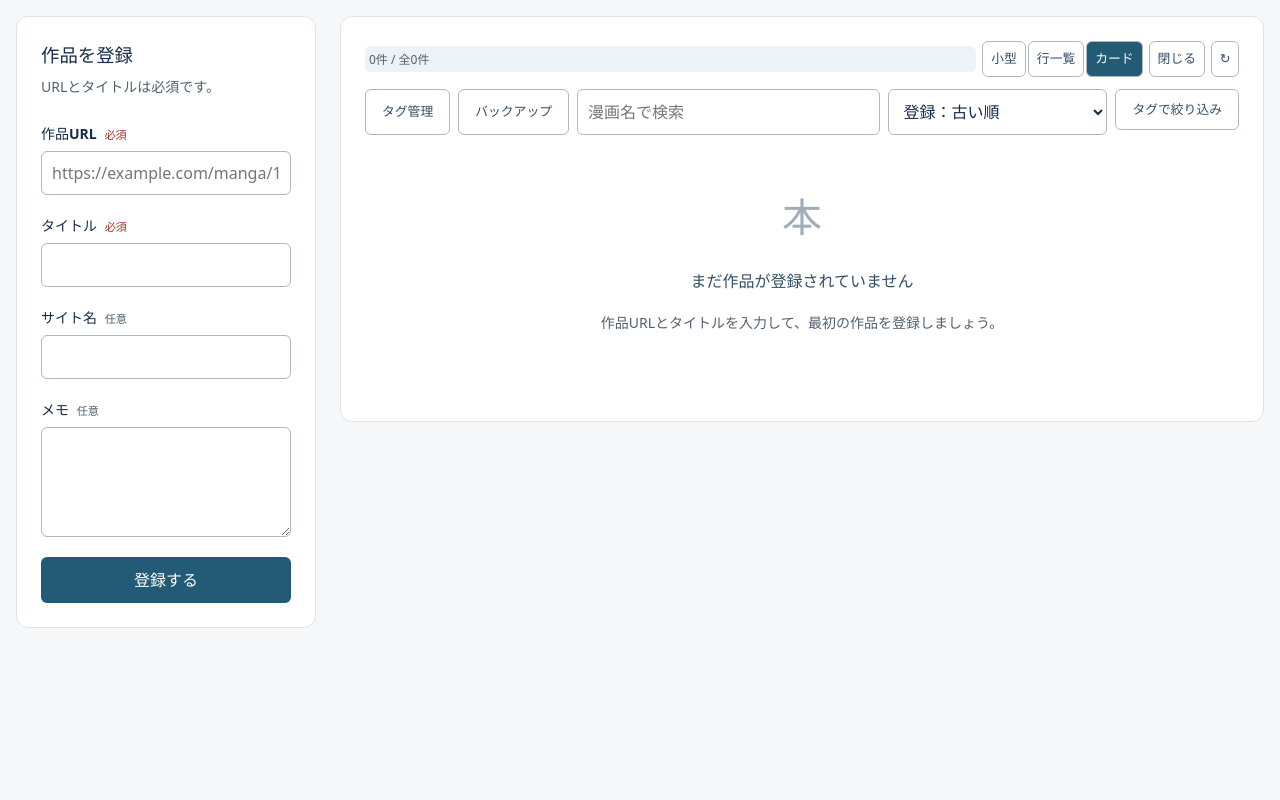
it: 登録確定後の取得失敗で空表示を最新扱いせず、成功とフォームクリアを残す
The width and height of the screenshot is (1280, 800).
Expected: the heading "まだ作品が登録されていません" is shown, x1=690 y1=270 x2=914 y2=292
In the field labelled "作品URL 必須": (166, 173) x1=41 y1=151 x2=291 y2=195, type "https://example.com/1"
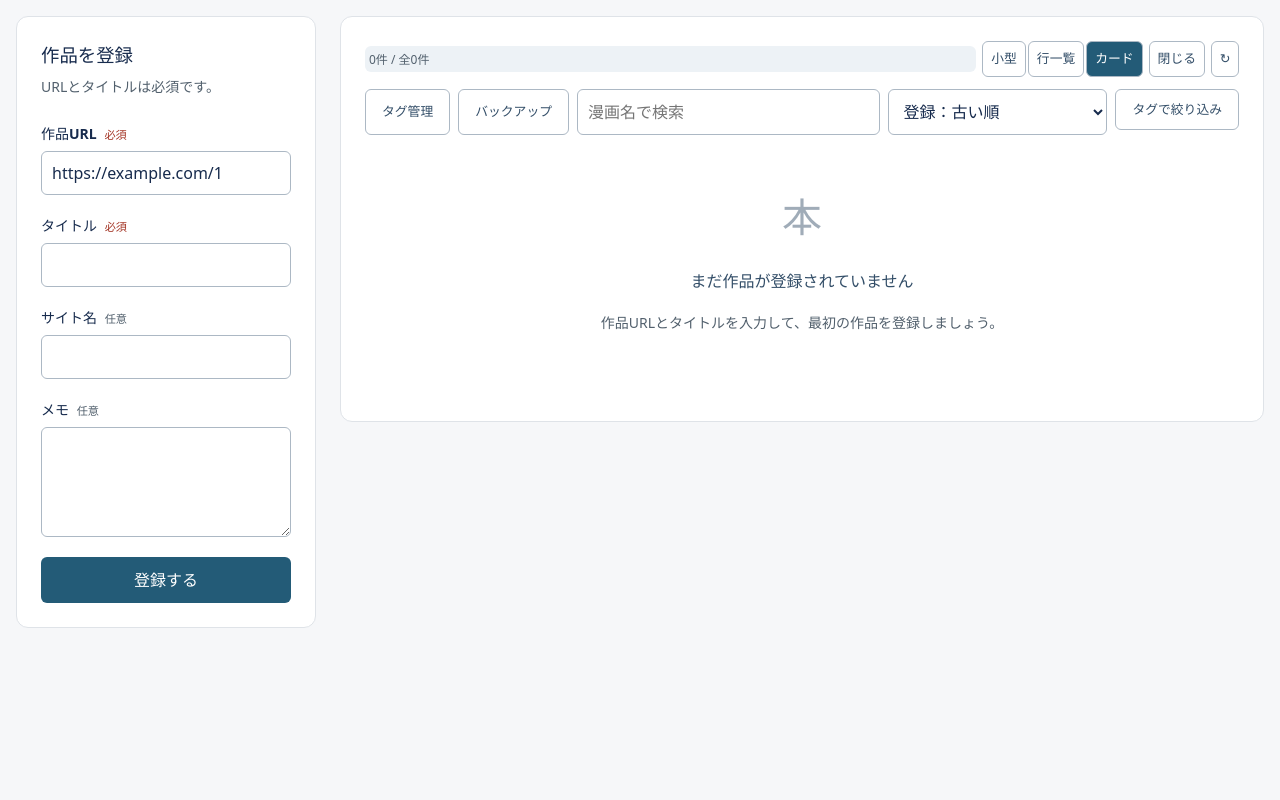
In the field labelled "タイトル 必須": (166, 265) x1=41 y1=243 x2=291 y2=287, type "旧名"
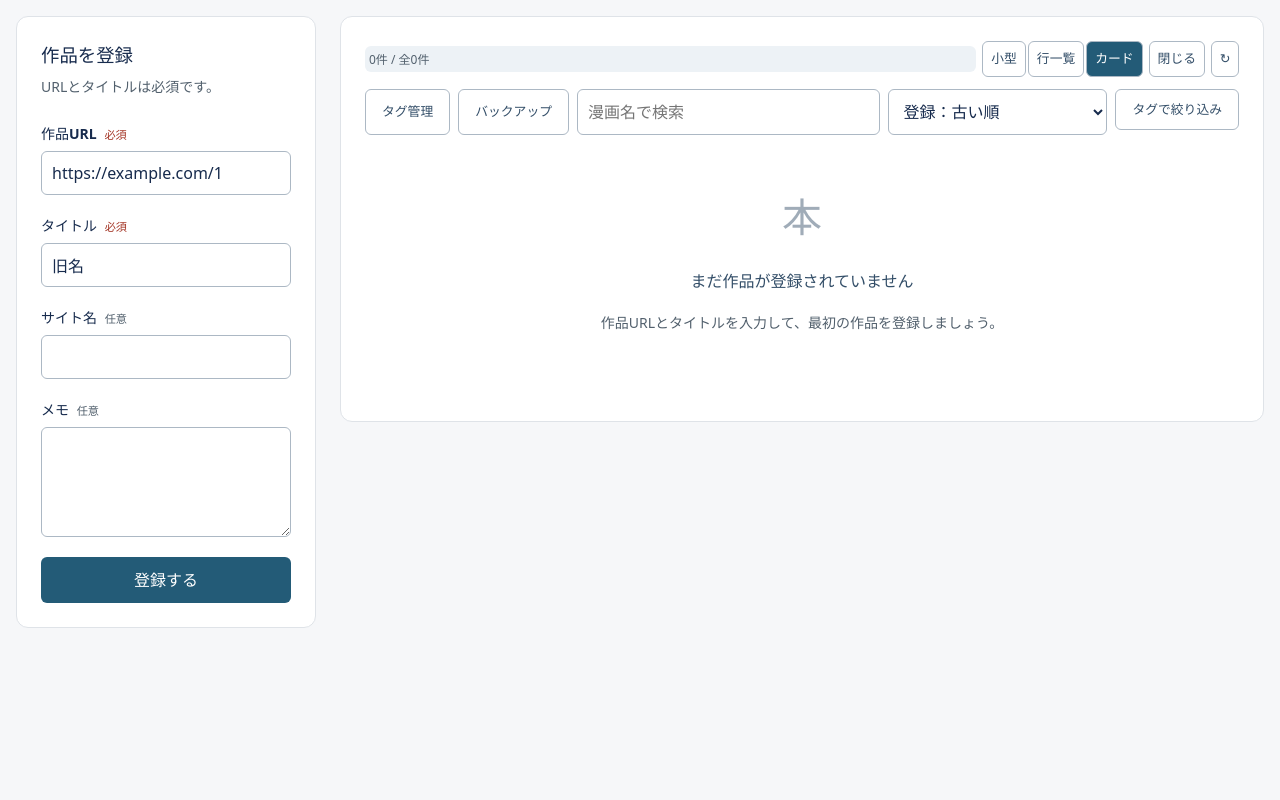
Click the button "登録する": (166, 580) x1=41 y1=557 x2=291 y2=603
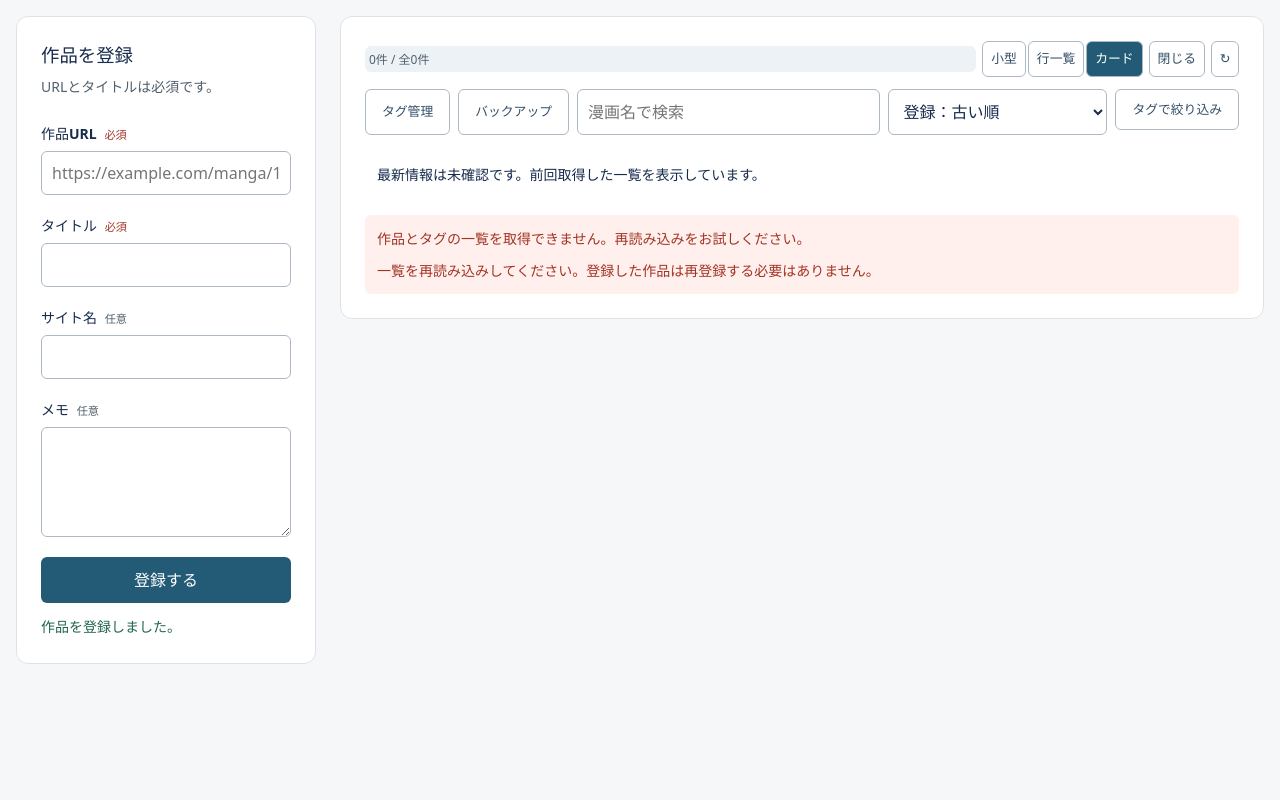
Expected: the text "作品を登録しました。" is shown, x1=41 y1=617 x2=181 y2=636
Expected: the message "作品とタグの一覧を取得できません。再読み込みをお試しください。 一覧を再読み込みしてください。登録した作品は再登録する必要はありません。" is shown, x1=365 y1=215 x2=1239 y2=294
Expected: the field labelled "タイトル 必須" is empty, x1=41 y1=243 x2=291 y2=287
